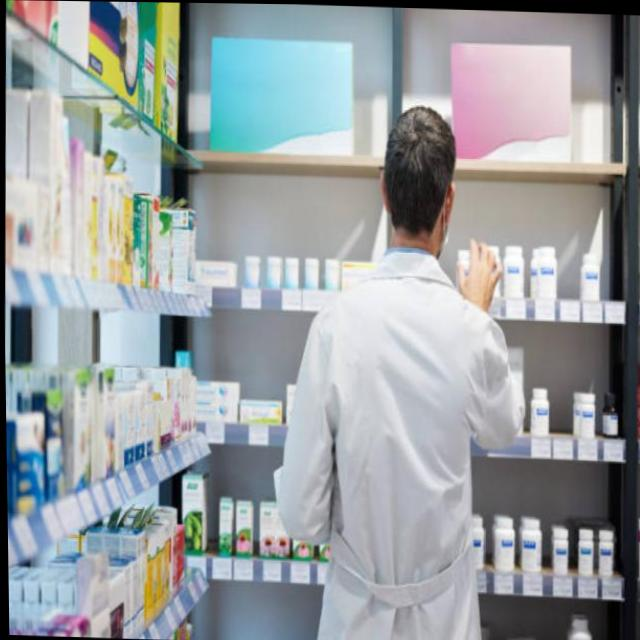no helmet: (363, 90, 488, 292)
